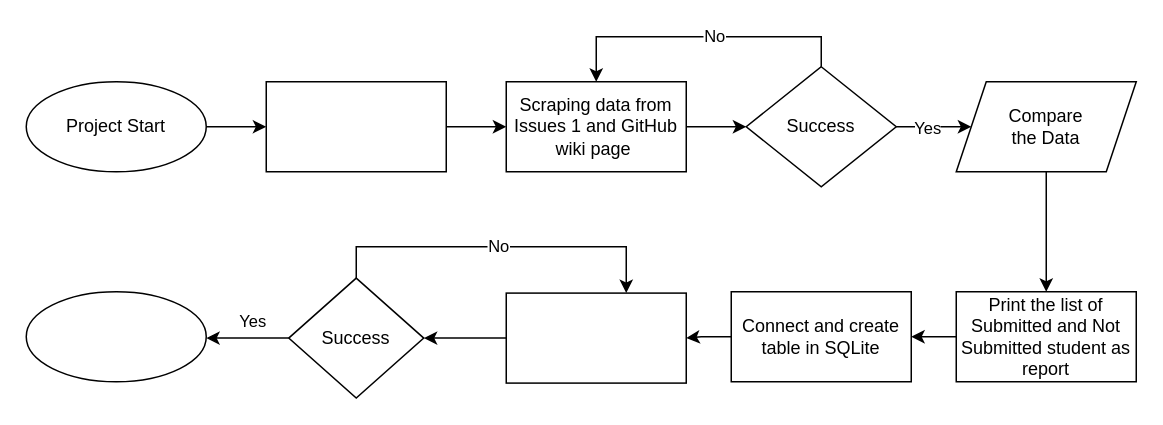
Some shapes in this 1163 by 425 pixel diagram are drawn without their labels. The centre of each missing label's shape, as x and y in pixels:
Insert data into table: (595,337)
Installing dependency: (355,126)
Project Complated: (115,336)
